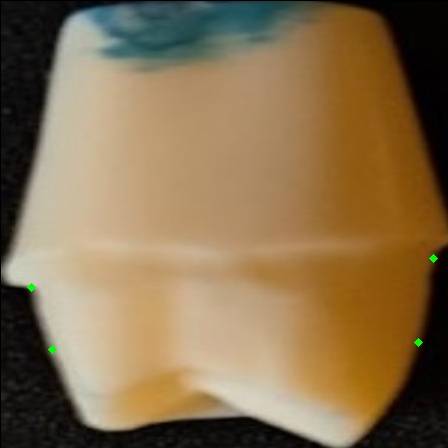coin_1: (433, 258, 448, 278)
coin_2: (418, 342, 438, 362)
coin_3: (31, 287, 51, 307)
coin_4: (52, 349, 72, 369)
